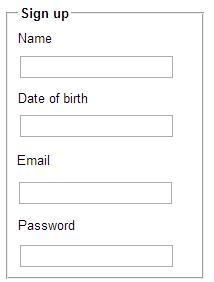input: (21, 56, 174, 80), (20, 182, 173, 205), (22, 116, 174, 138), (21, 246, 174, 267)
label: (19, 91, 90, 106), (18, 219, 78, 235), (20, 33, 54, 47), (18, 154, 52, 168)
